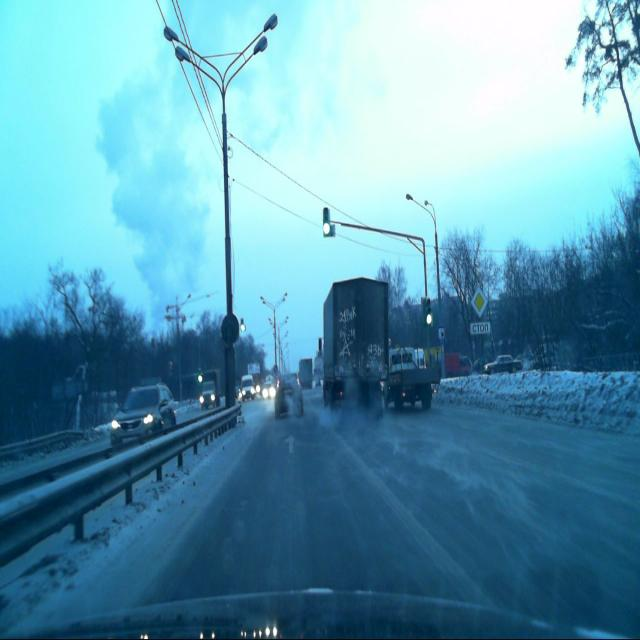object: (470, 321, 492, 336)
road sign: (471, 287, 488, 317), (438, 324, 446, 343)
